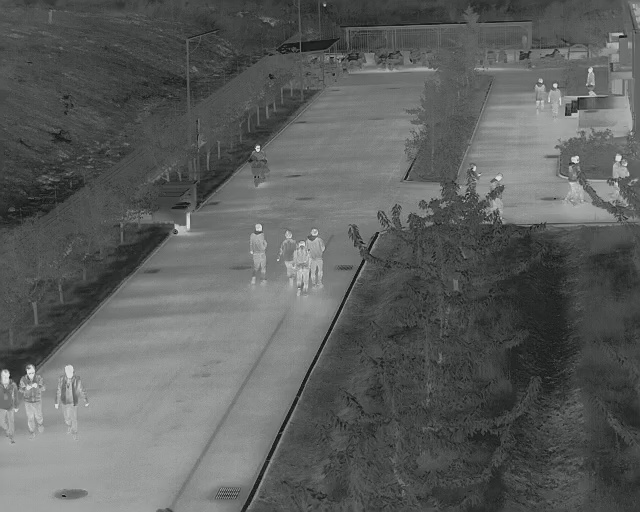NonMotorVehicle: (247, 145, 270, 187)
person: (54, 365, 88, 437), (17, 364, 48, 437), (248, 223, 269, 287), (307, 225, 326, 291), (1, 370, 16, 444), (277, 228, 296, 286), (564, 155, 586, 204), (293, 239, 310, 296), (489, 171, 505, 215), (532, 77, 547, 116), (610, 153, 630, 182), (548, 82, 561, 121), (586, 65, 597, 95)
